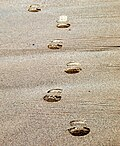human_footprint: (66, 113, 92, 137), (61, 56, 83, 76), (47, 36, 65, 58), (45, 84, 64, 104), (53, 16, 72, 32), (28, 0, 42, 16)
